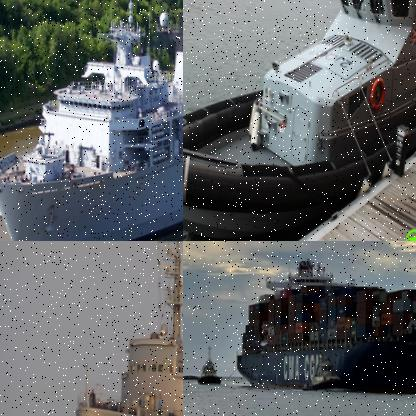Merchant Ship: (234, 256, 415, 396)
Military Ship: (0, 0, 182, 240), (73, 241, 182, 415)
Patrol Boat: (183, 0, 415, 240), (198, 345, 222, 385)
